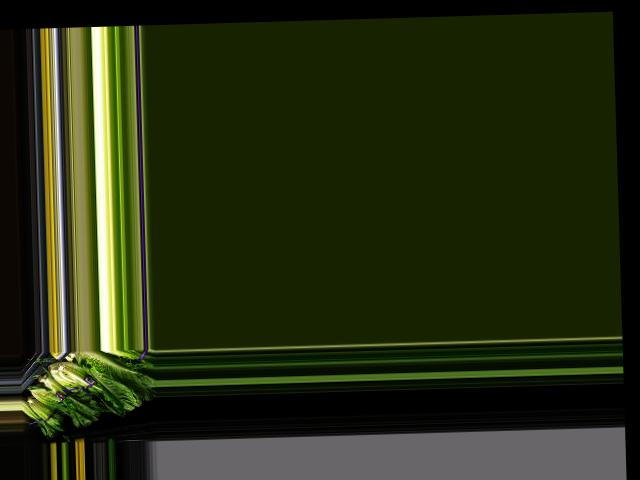lettuce: (76, 352, 154, 409)
